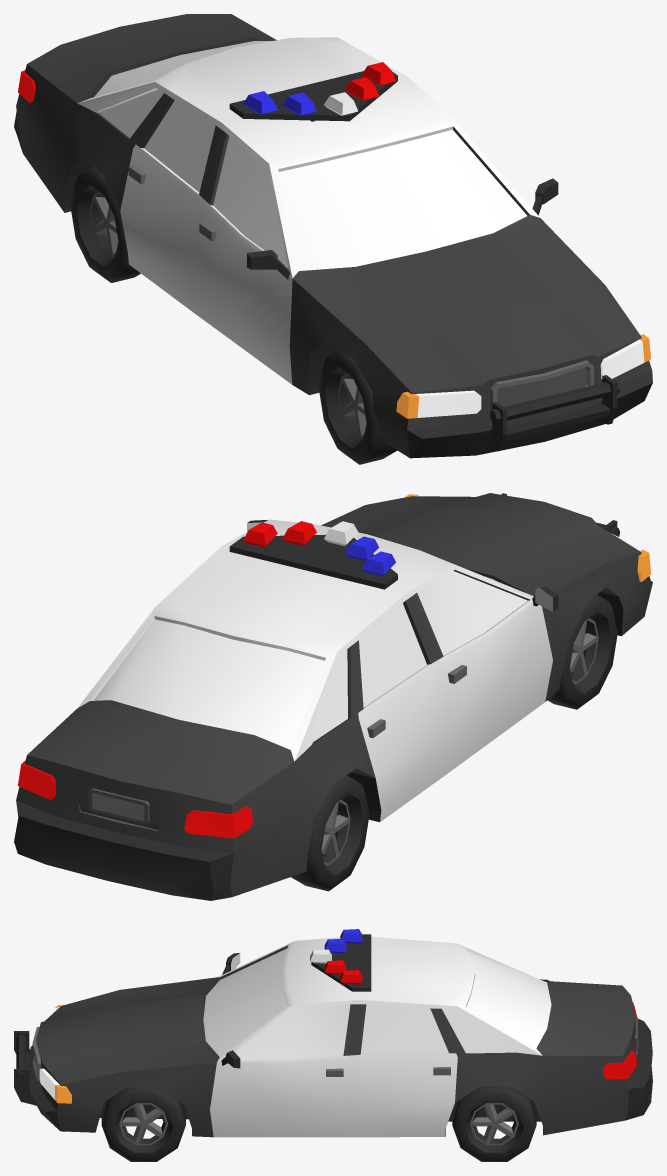
File: police.glb
3 views of the same model, one above another, from view 1: azimuth 30°, elevation 25°; view 2: azimuth 150°, elevation 25°; view 3: azimuth 270°, elevation 25° (orthographic). The views are drawn at different scales.
Visible parts, largest first — view 1: police, wheels.028; view 2: police, wheels.028; view 3: police, wheels.028.
Boxes of the visible parts, x1,y1,x2,y2 form: police: [14, 14, 652, 458]; wheels.028: [70, 167, 397, 464]; police: [14, 493, 652, 900]; wheels.028: [291, 595, 617, 891]; police: [14, 929, 652, 1137]; wheels.028: [101, 1086, 536, 1161].
Bounding box in the file's own units: 2.25 × 1.67 × 5.72.
3 materials, 2 textured.
